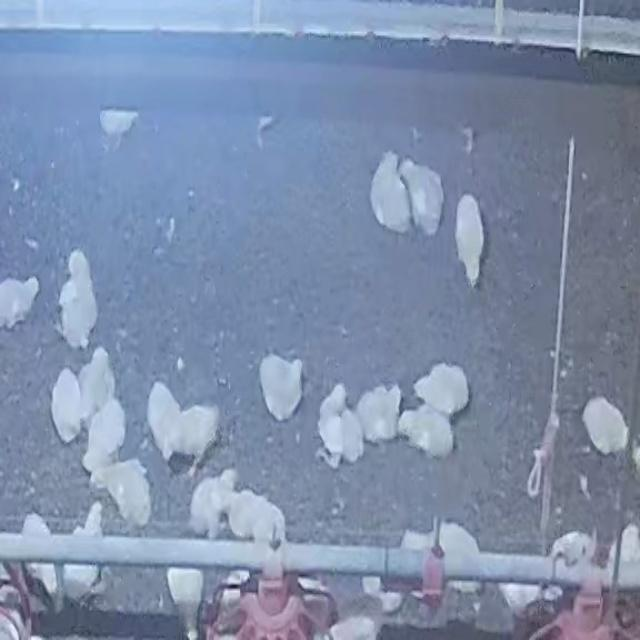chicken: (56, 246, 100, 352), (90, 460, 153, 528), (316, 382, 365, 468), (367, 148, 413, 238), (399, 152, 448, 236), (453, 192, 489, 292), (258, 351, 306, 424), (228, 489, 288, 546), (189, 468, 236, 538), (412, 362, 468, 418), (399, 404, 454, 460), (580, 396, 628, 456), (355, 383, 401, 443)
